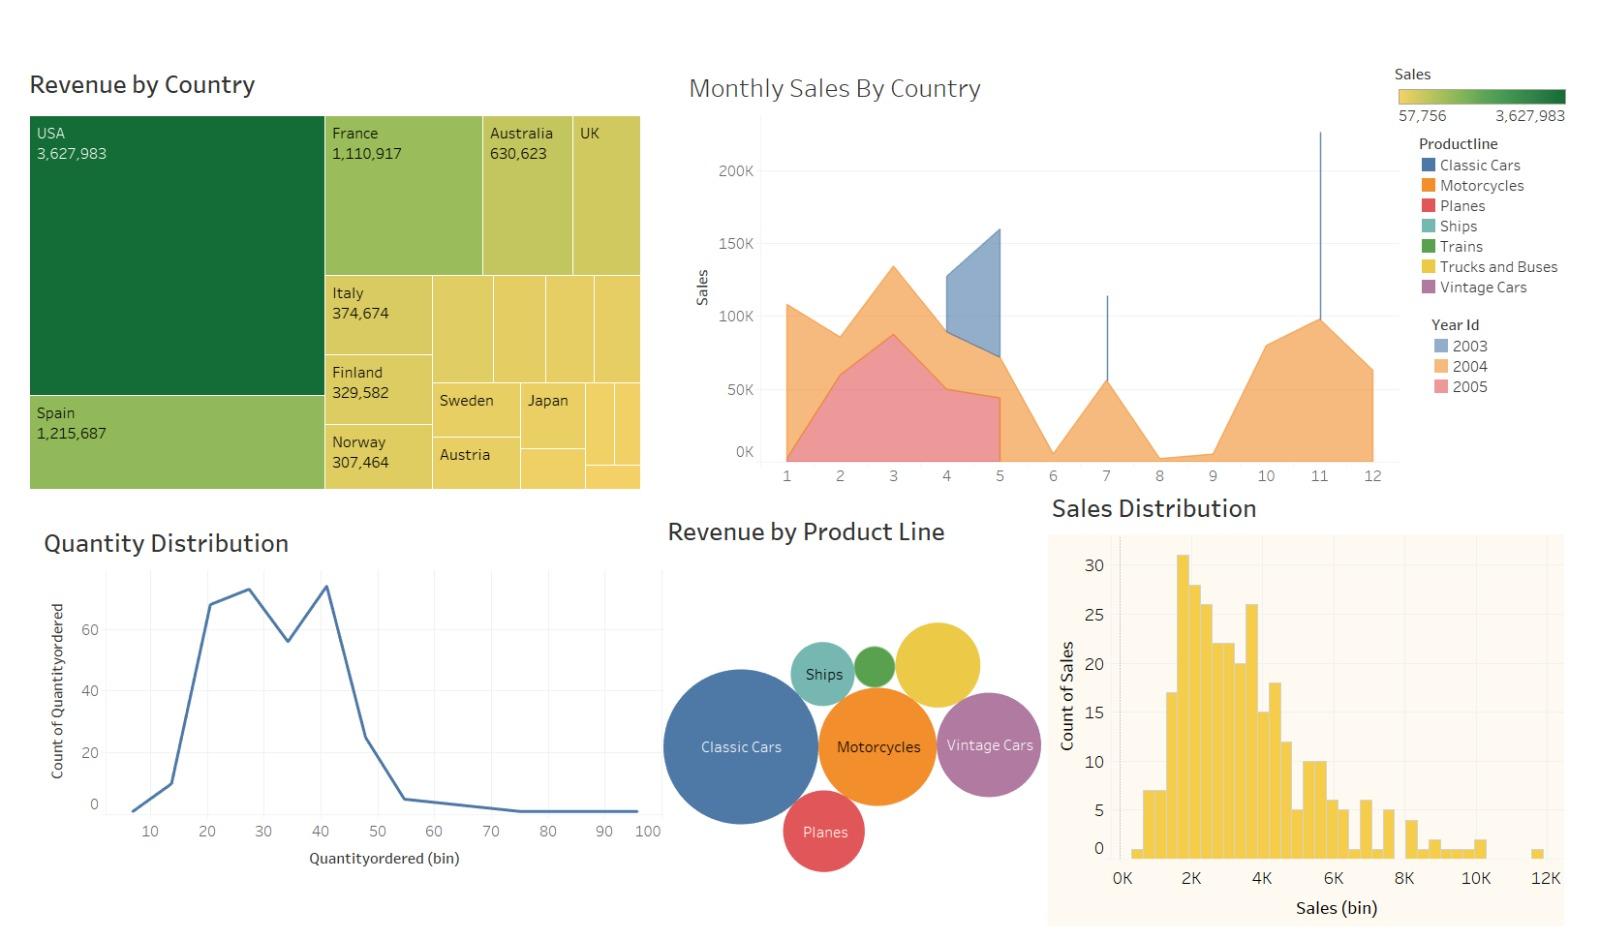

This screenshot's page, from the dashboard's own definition file:
{"tool":"tableau","page":{"name":"Dashboard 1","canvas":[1600,900],"ordinal":0},"visuals":[{"type":"worksheet","title":"Revenue by Country","mark":"Automatic","box":[3,2,639,464]},{"type":"legend","title":"Revenue by Country","param":"[federated.0dwprst0fjxahv18hvniy0mpwilp].[sum:SALES:qk]","box":[1417,3,181,62]},{"type":"worksheet","title":"Monthly Sales By Country","mark":"Area","rows":["SALES"],"cols":["MONTH_ID"],"box":[684,6,738,433]},{"type":"legend","title":"Revenue by Product Line","param":"[federated.0dwprst0fjxahv18hvniy0mpwilp].[none:PRODUCTLINE:nk]","box":[1442,75,149,169]},{"type":"legend","title":"Monthly Sales By Country","param":"[federated.0dwprst0fjxahv18hvniy0mpwilp].[none:YEAR_ID:ok]","box":[1455,262,140,85]},{"type":"worksheet","title":"Sales Distribution","mark":"Automatic","rows":["SALES"],"cols":["Sales (bin)"],"box":[1059,440,533,454]},{"type":"worksheet","title":"Revenue by Product Line","mark":"Circle","box":[662,464,416,440]},{"type":"worksheet","title":"Quantity Distribution","mark":"Line","rows":["QUANTITYORDERED"],"cols":["Quantityordered (bin)"],"box":[18,476,644,365]}]}

Visuals, with their boxes on the page's 1600x900 design canvas (x1, y1, x2, y2). These are canvas units, not pixel positions in the 1600x940 screenshot, which may show the page scaled, cropped or inside an application window:
"Revenue by Country" worksheet: (left=3, top=2, right=642, bottom=466)
"Revenue by Country" legend: (left=1417, top=3, right=1598, bottom=65)
"Monthly Sales By Country" worksheet (Area marks): (left=684, top=6, right=1422, bottom=439)
"Revenue by Product Line" legend: (left=1442, top=75, right=1591, bottom=244)
"Monthly Sales By Country" legend: (left=1455, top=262, right=1595, bottom=347)
"Sales Distribution" worksheet: (left=1059, top=440, right=1592, bottom=894)
"Revenue by Product Line" worksheet (Circle marks): (left=662, top=464, right=1078, bottom=904)
"Quantity Distribution" worksheet (Line marks): (left=18, top=476, right=662, bottom=841)
